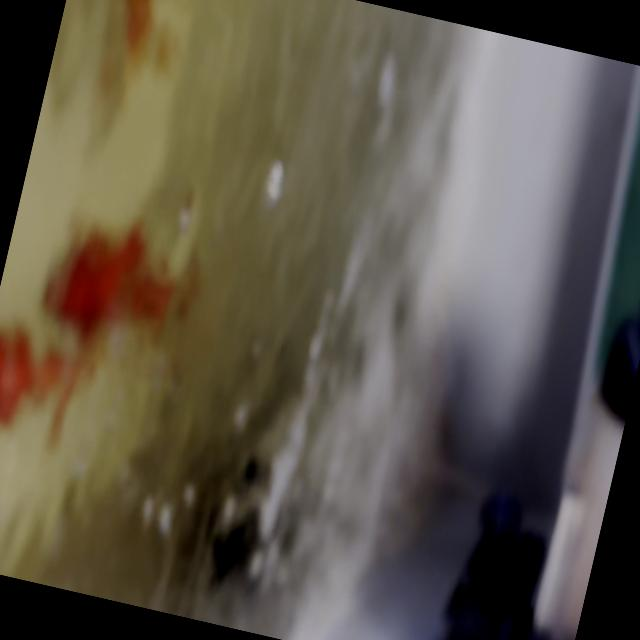fish: (38, 204, 205, 362), (0, 305, 83, 530), (49, 0, 177, 91)
